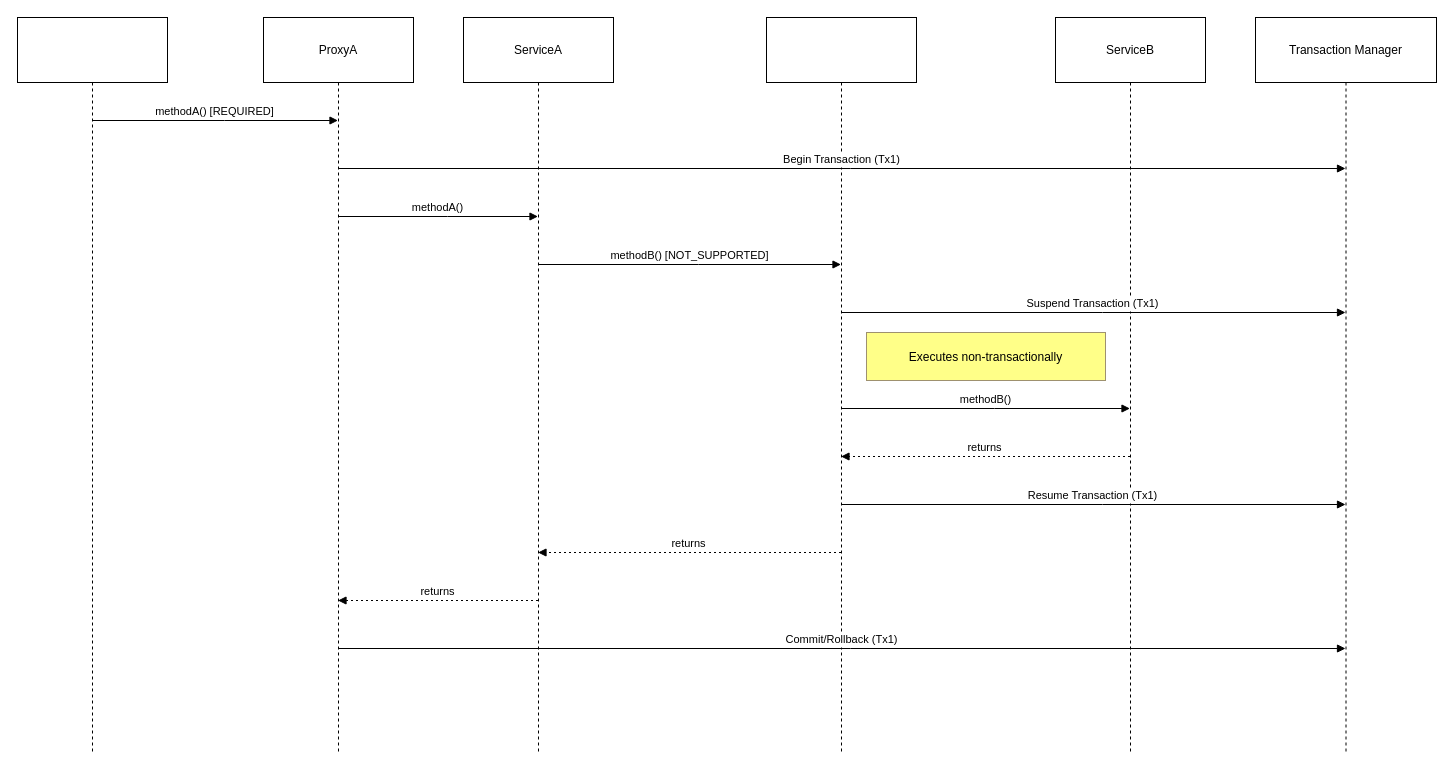
The diagram is 1454 pixels wide and 771 high, and some of its shapes have lost their labels. Each missing label, with the box of its shape:
Client: (16, 16, 168, 754)
ProxyB: (766, 16, 916, 754)
